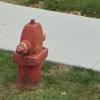a fire hydrant: (13, 20, 48, 84)
